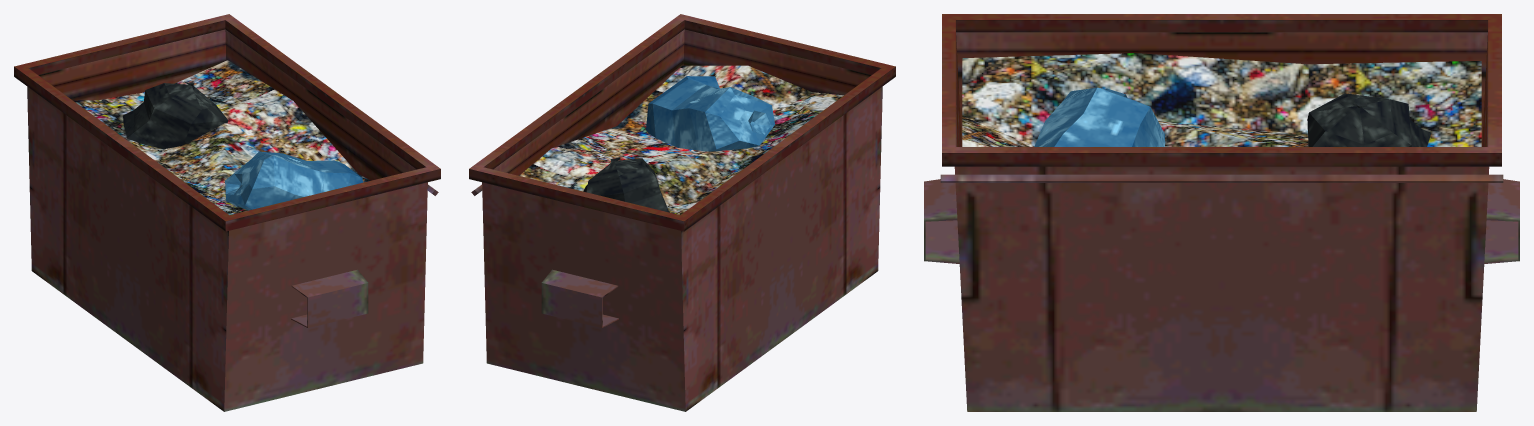
Rendered from Urban_DumpsterFullNoLidRed_Model.fbx.
3 renders of one model, left to right at view 1: azimuth 30°, elevation 25°; view 2: azimuth 150°, elevation 25°; view 3: azimuth 270°, elevation 25°, orthographic. The views are drawn at different scales.
Parts seen in each view (by area): view 1: Urban_DumpsterFullNoLidRed_Mesh; view 2: Urban_DumpsterFullNoLidRed_Mesh; view 3: Urban_DumpsterFullNoLidRed_Mesh.
Boxes of the visible parts, x1,y1,x2,y2 form: Urban_DumpsterFullNoLidRed_Mesh: (14, 14, 440, 411); Urban_DumpsterFullNoLidRed_Mesh: (469, 14, 895, 411); Urban_DumpsterFullNoLidRed_Mesh: (924, 14, 1519, 411).
Size of the model in its own units: 2.03 by 1.8 by 3.67.
